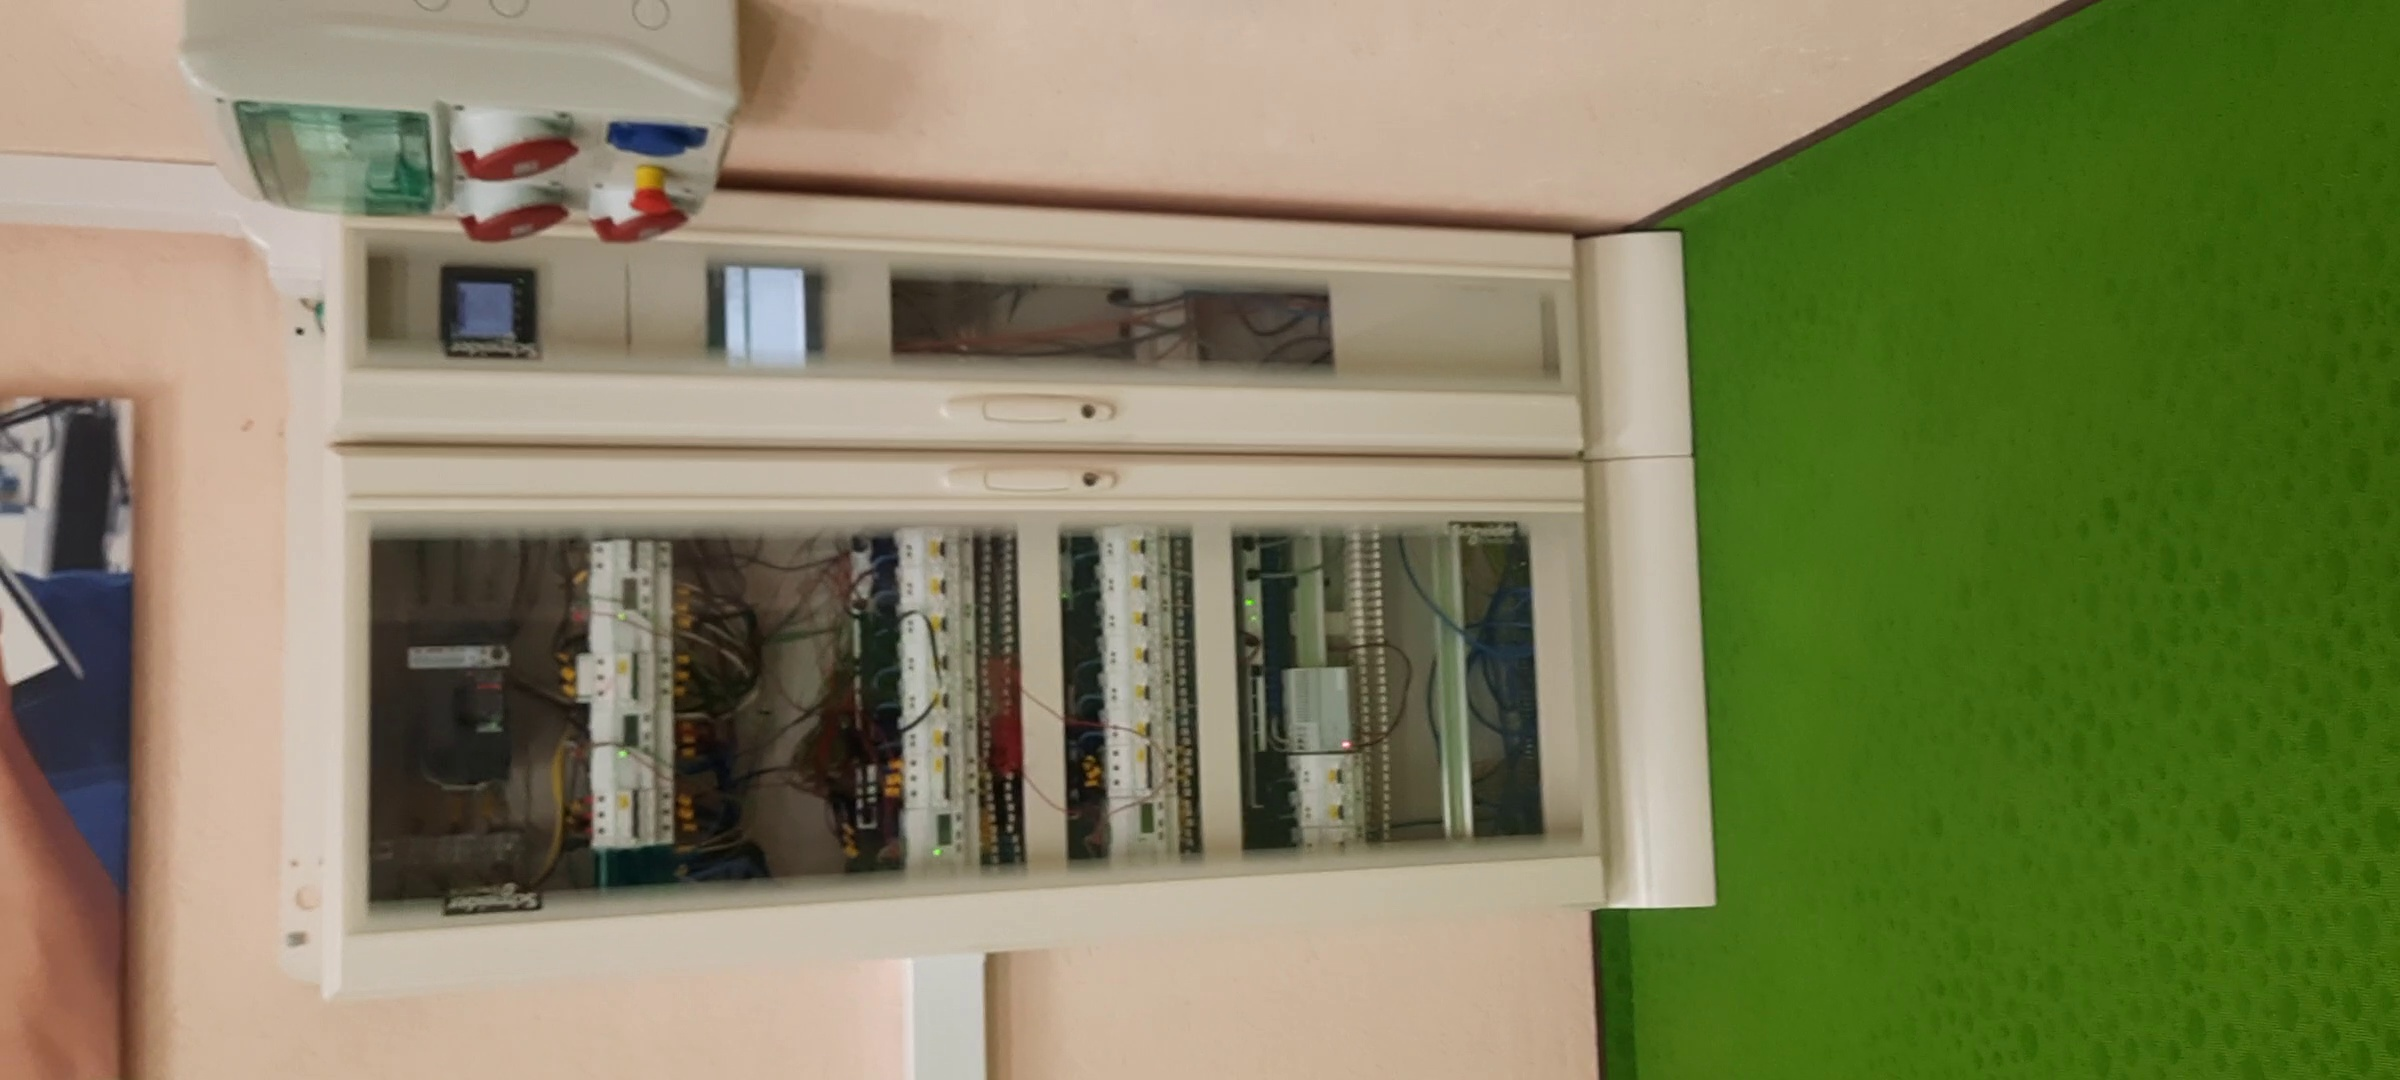stand1: (274, 194, 1722, 965)
